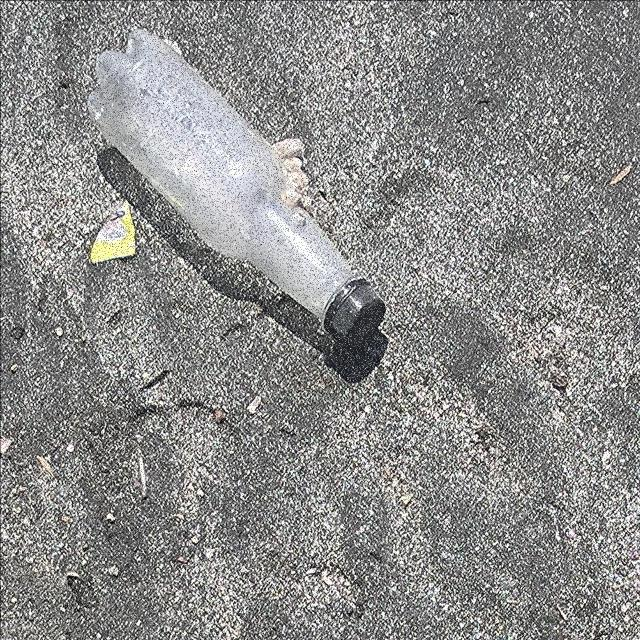plastic_waste: (87, 30, 388, 349), (90, 200, 137, 264)
